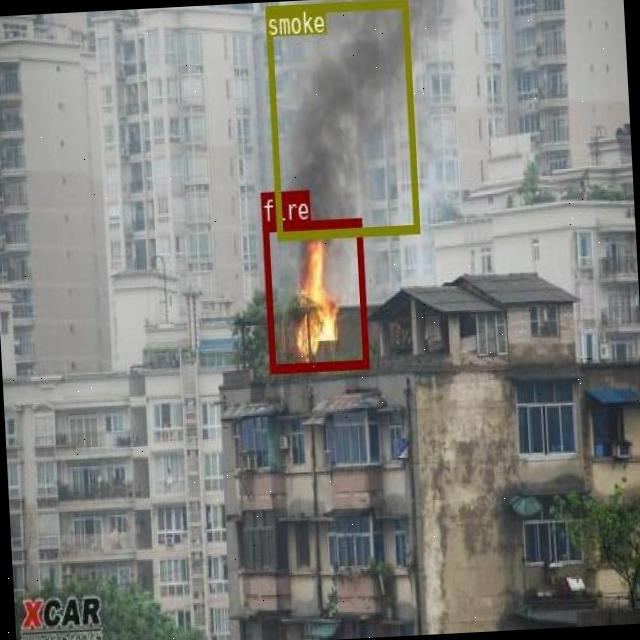fire: (260, 217, 368, 372)
smoke: (263, 0, 418, 239)
